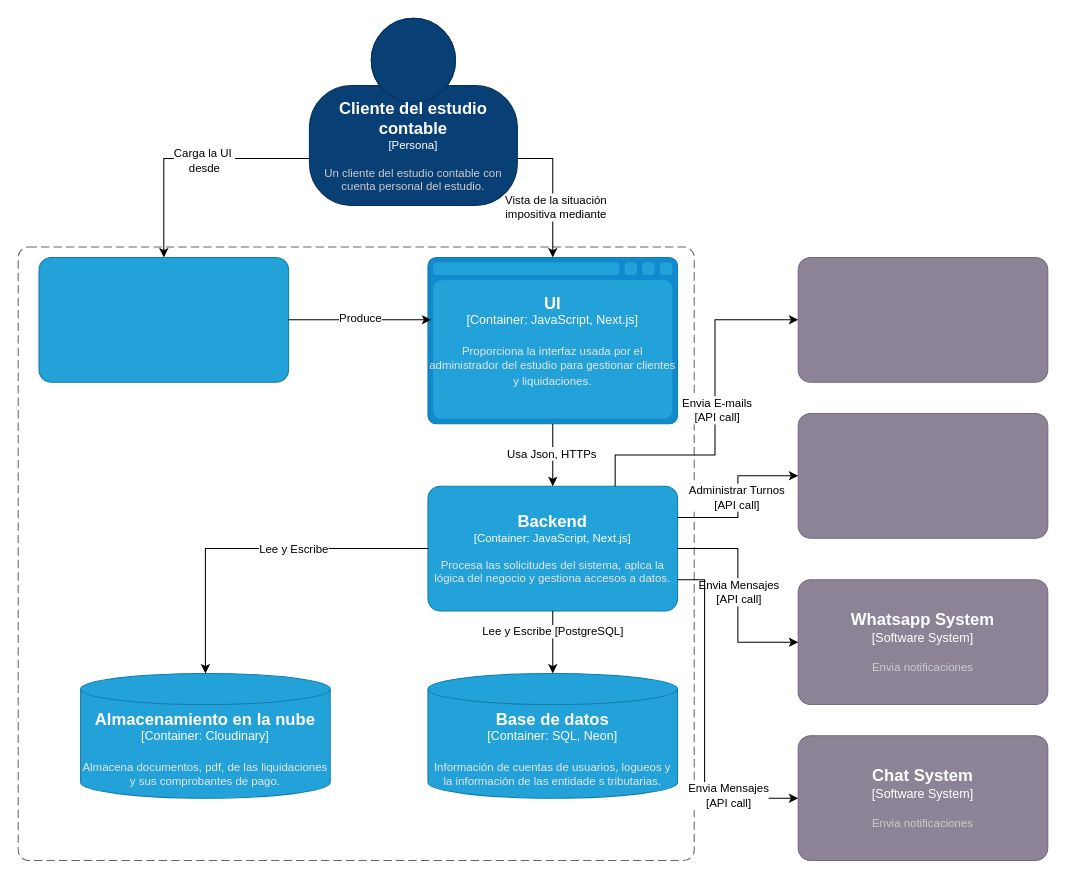
Some shapes in this 1066 by 879 pixel diagram are drawn without their labels. The shapes that lost their labels are listed below. From the top down, each one's box as (x1, y1, x2, y2) in pixels, then its label:
(38, 256, 289, 382): Pagina Web [Container: Directory] HTML, CSS, JavaScript.
(797, 256, 1048, 382): E-mail System [Software System] Envia notificaciones
(797, 412, 1048, 538): Google Calendar System [Software System] Manejar turnos.
(17, 246, 694, 861): Sistema del estudio contable [Software System]
